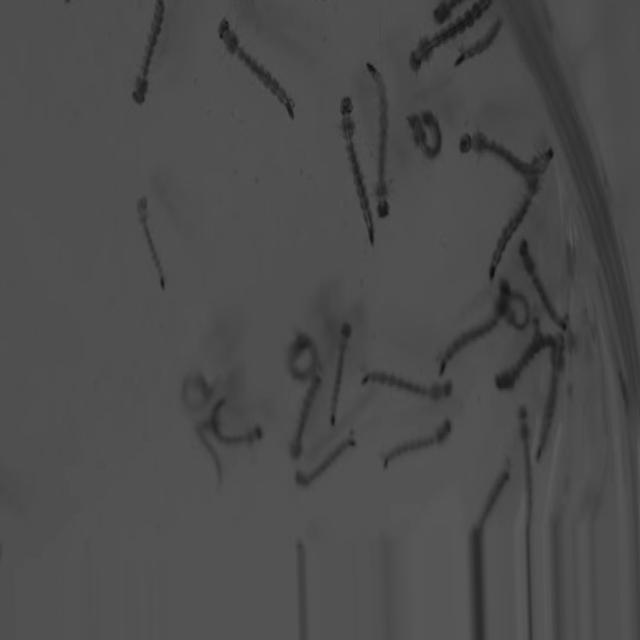larvas: (488, 148, 555, 275), (218, 19, 298, 117), (439, 278, 508, 371), (409, 0, 492, 76), (518, 238, 570, 340), (337, 97, 374, 239), (457, 125, 536, 181), (366, 62, 393, 212), (131, 0, 164, 101), (385, 420, 451, 469), (501, 334, 554, 388), (213, 396, 263, 444), (298, 440, 352, 483), (456, 19, 503, 68), (291, 376, 318, 460), (362, 372, 452, 397), (140, 195, 164, 288), (331, 325, 354, 422), (539, 358, 561, 455), (407, 102, 443, 155), (197, 421, 222, 486), (287, 332, 319, 377), (518, 406, 533, 495), (295, 534, 307, 640), (483, 474, 513, 516), (183, 375, 210, 412), (503, 290, 526, 330), (435, 0, 460, 18)
